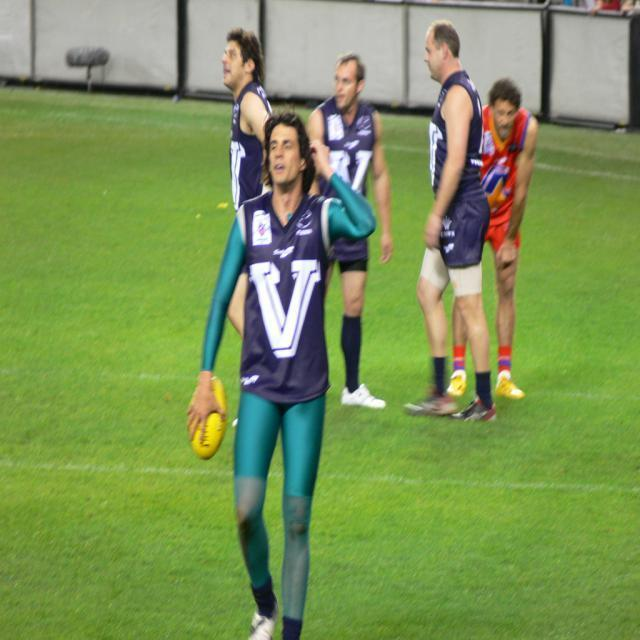ball: (189, 377, 228, 460)
